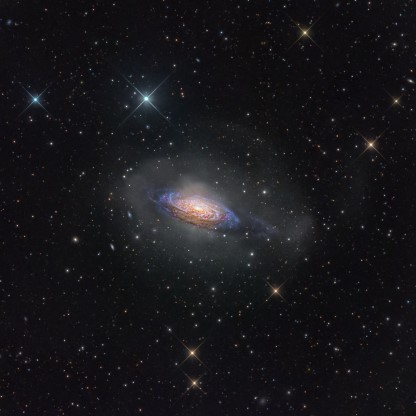NGC 3521: (108, 139, 327, 278)
